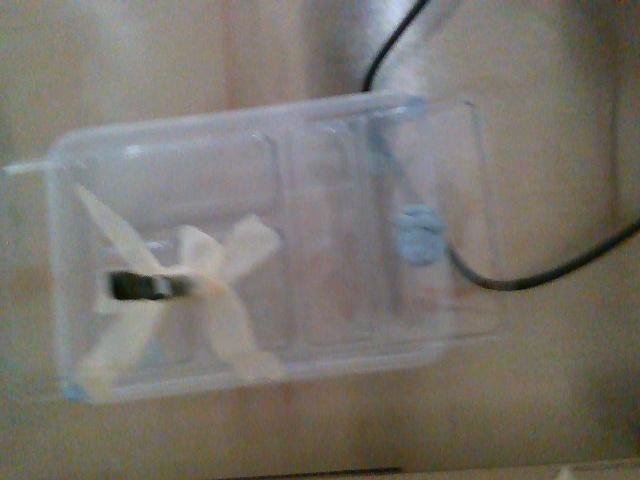test_strip: (105, 268, 171, 302)
